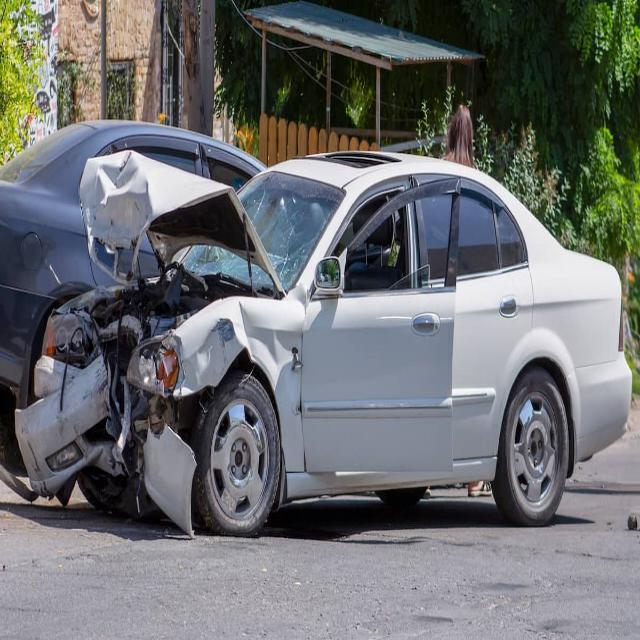accident: (26, 130, 609, 541)
